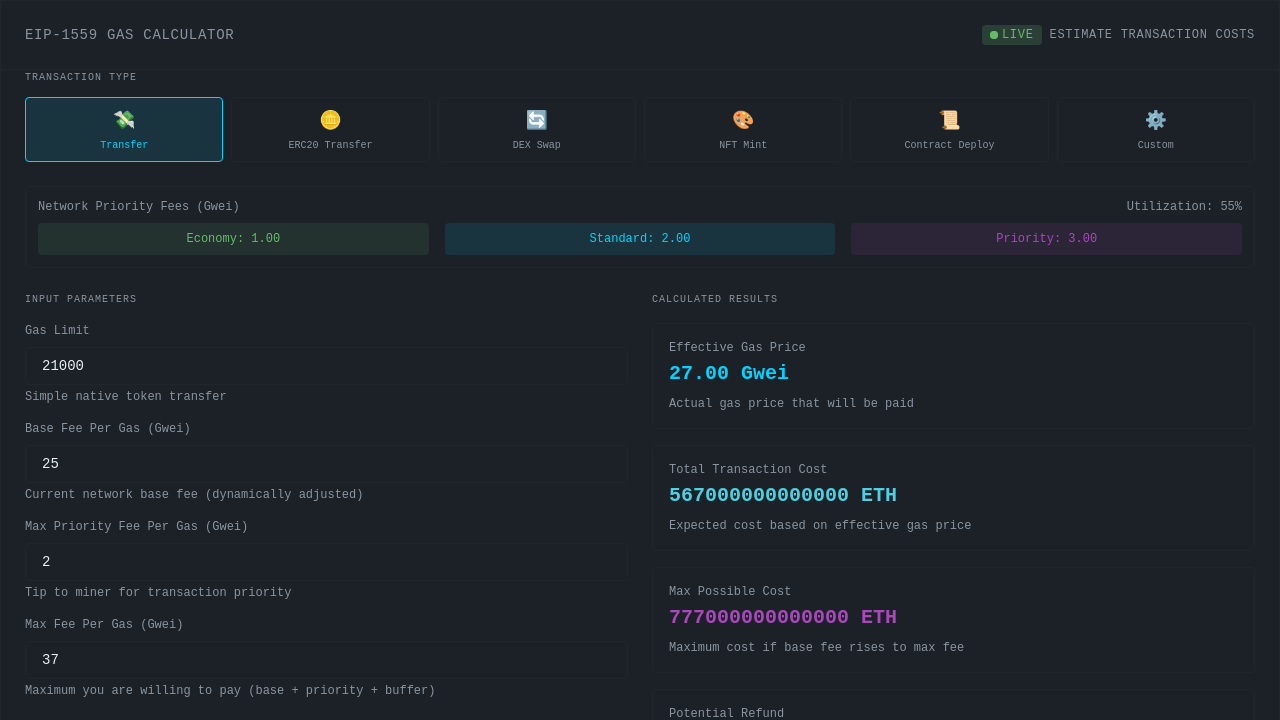
GasCalculator › User Interactions › switches gas limit when selecting NFT Mint preset
This screenshot has width=1280, height=720.
Click the button titled "Mint NFT token" at coordinates (743, 130), box [644,97,842,162]
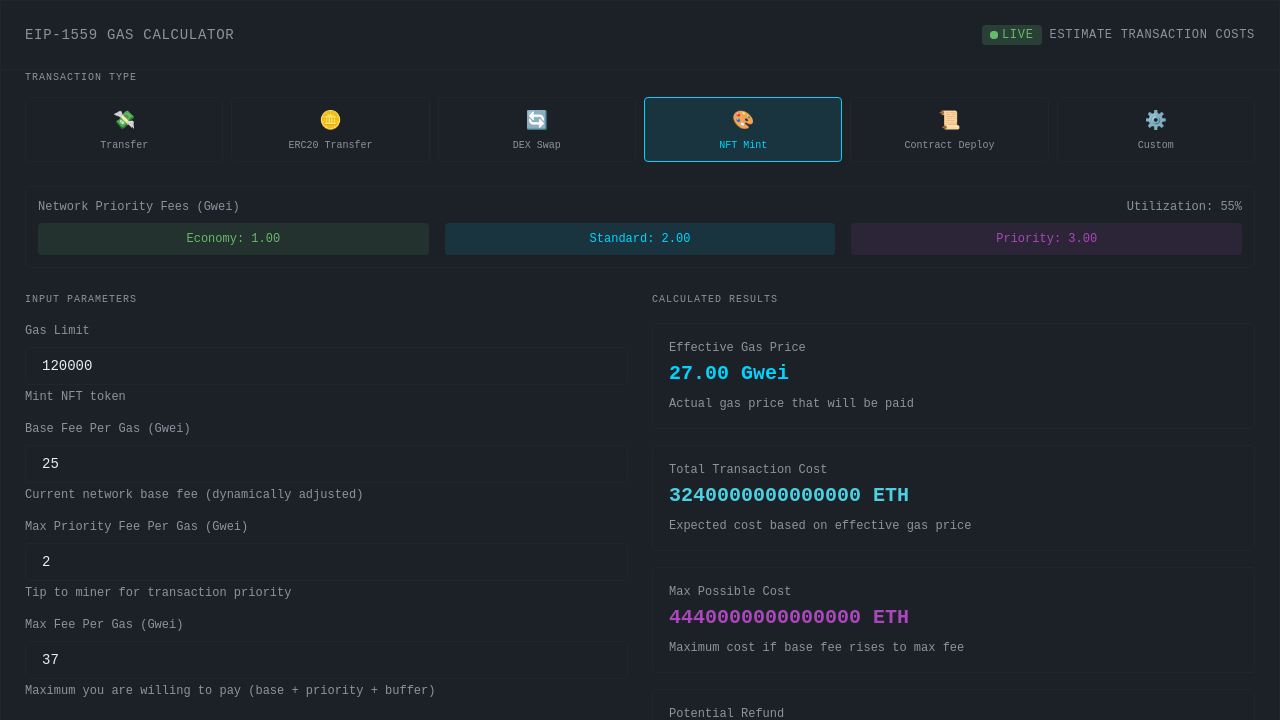
Expected: the number field labelled "Gas Limit" holds "120000", [25,347,628,385]
